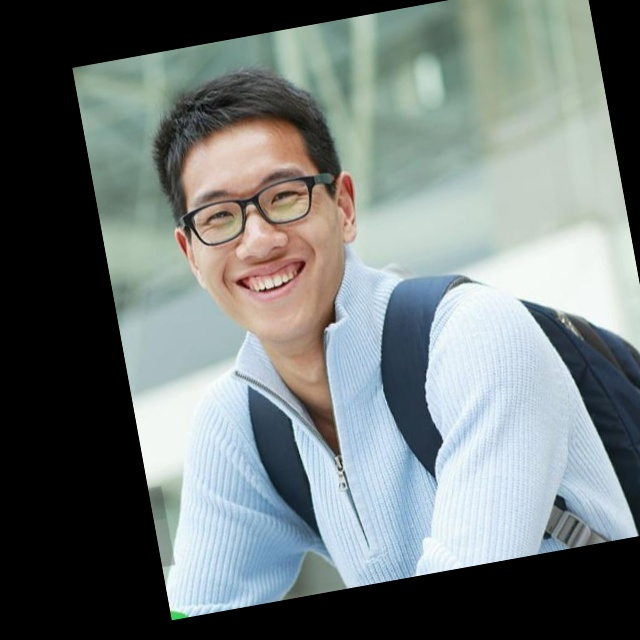Sin_Casco_Mascarrilla: (139, 48, 376, 346)
